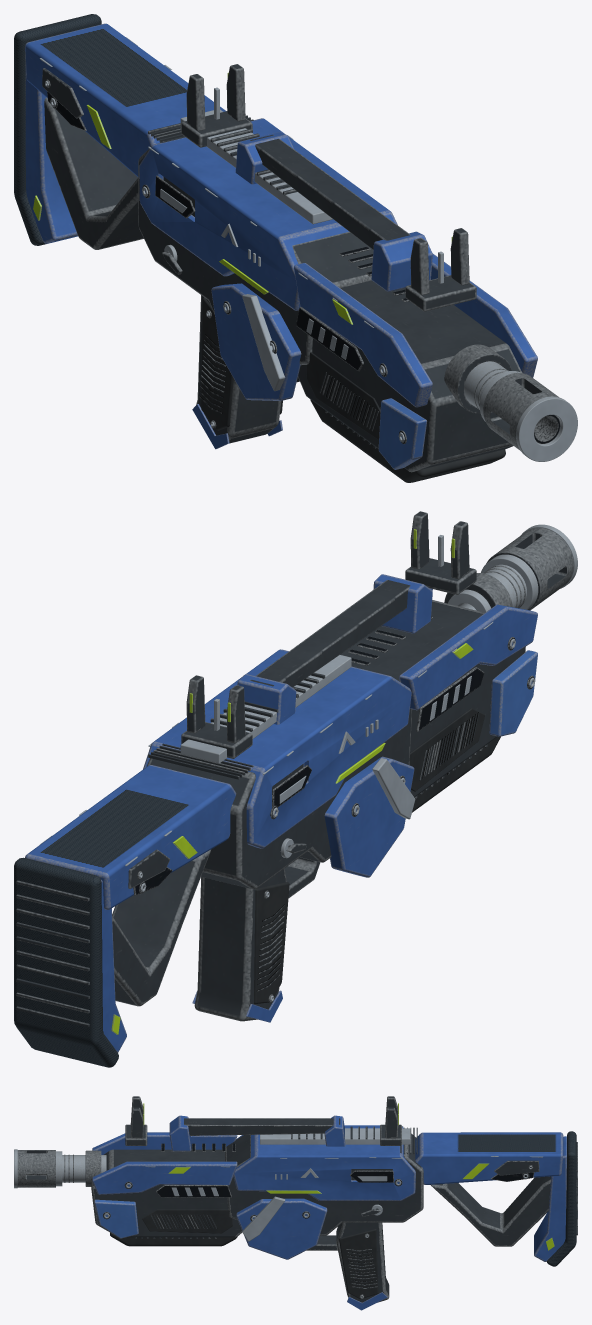
Rendered from automatic-rifle-lod1.glb.
3 views of the same model, one above another, from view 1: azimuth 30°, elevation 25°; view 2: azimuth 150°, elevation 25°; view 3: azimuth 270°, elevation 25° (orthographic). The views are drawn at different scales.
Visible parts, largest first — view 1: cobalt-blue-anodized-armor, cobalt-graphite-chassis, cobalt-grip-rubber, cobalt-machined-steel, cobalt-recessed-black, cobalt-blue-bevel-inserts, cobalt-lime-inlays; view 2: cobalt-graphite-chassis, cobalt-blue-anodized-armor, cobalt-grip-rubber, cobalt-machined-steel, cobalt-recessed-black, cobalt-blue-bevel-inserts, cobalt-lime-inlays; view 3: cobalt-blue-anodized-armor, cobalt-graphite-chassis, cobalt-grip-rubber, cobalt-machined-steel, cobalt-recessed-black, cobalt-blue-bevel-inserts, cobalt-lime-inlays.
Boxes of the visible parts, <box> form: cobalt-blue-anodized-armor: <box>25,23,537,449</box>; cobalt-graphite-chassis: <box>42,64,558,472</box>; cobalt-grip-rubber: <box>14,14,505,482</box>; cobalt-machined-steel: <box>39,37,577,461</box>; cobalt-recessed-black: <box>46,79,560,444</box>; cobalt-blue-bevel-inserts: <box>378,398,427,469</box>; cobalt-lime-inlays: <box>33,72,452,324</box>; cobalt-graphite-chassis: <box>16,511,573,1027</box>; cobalt-blue-anodized-armor: <box>25,574,537,1052</box>; cobalt-grip-rubber: <box>14,708,500,1067</box>; cobalt-machined-steel: <box>40,524,577,1001</box>; cobalt-recessed-black: <box>133,616,534,1002</box>; cobalt-blue-bevel-inserts: <box>489,650,537,736</box>; cobalt-lime-inlays: <box>111,529,473,1034</box>; cobalt-blue-anodized-armor: <box>92,1115,566,1310</box>; cobalt-graphite-chassis: <box>17,1096,577,1302</box>; cobalt-grip-rubber: <box>110,1131,576,1299</box>; cobalt-machined-steel: <box>14,1126,542,1298</box>; cobalt-recessed-black: <box>26,1143,534,1298</box>; cobalt-blue-bevel-inserts: <box>94,1199,138,1238</box>; cobalt-lime-inlays: <box>143,1103,554,1250</box>.
Bounding box in the file's own units: 0.143 × 0.3519 × 0.8993.
7 materials, 7 textured.
